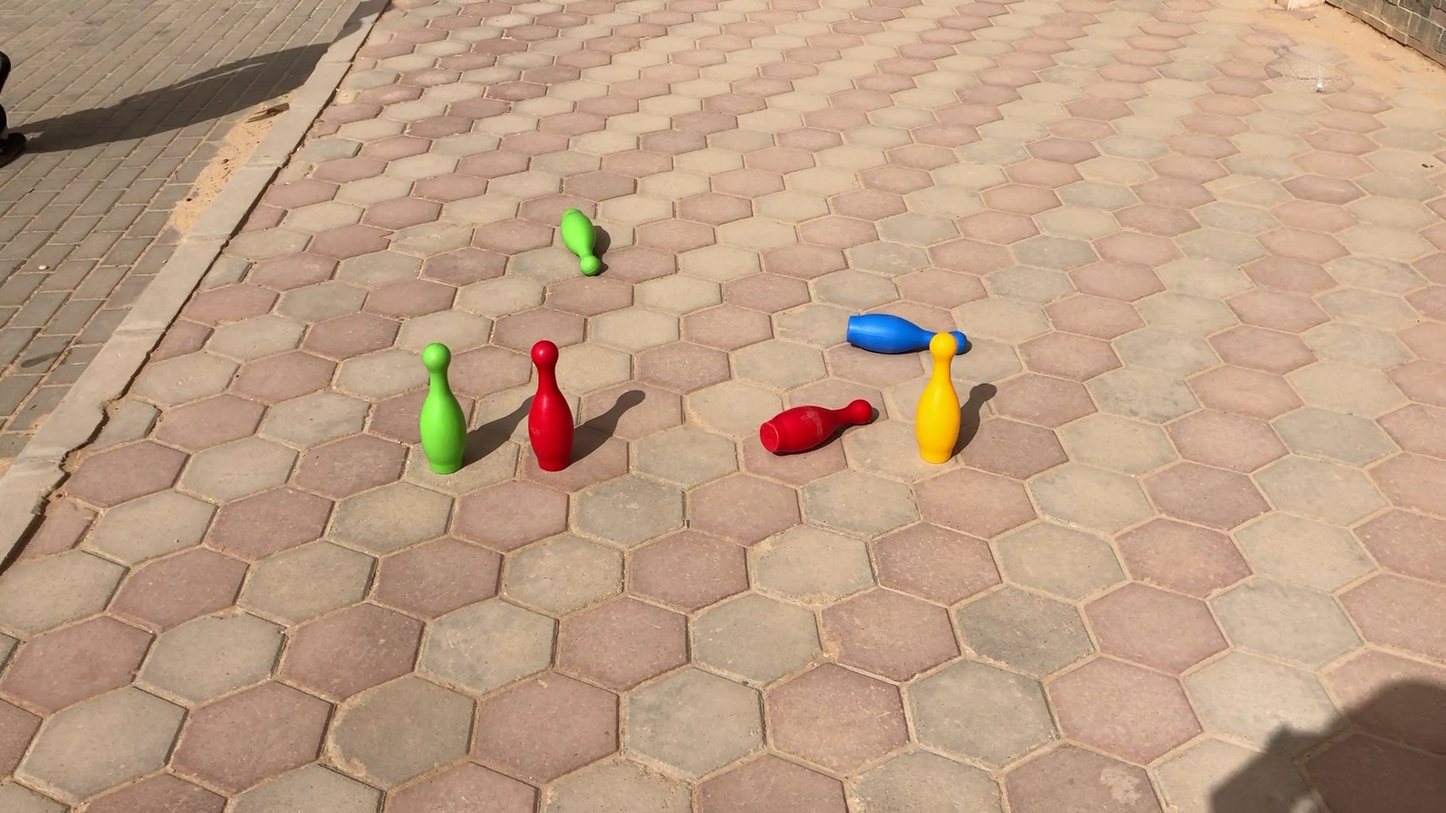pin: (914, 330, 965, 462), (842, 304, 971, 354), (758, 399, 874, 454), (525, 340, 574, 470), (419, 345, 465, 473), (560, 209, 601, 276)
